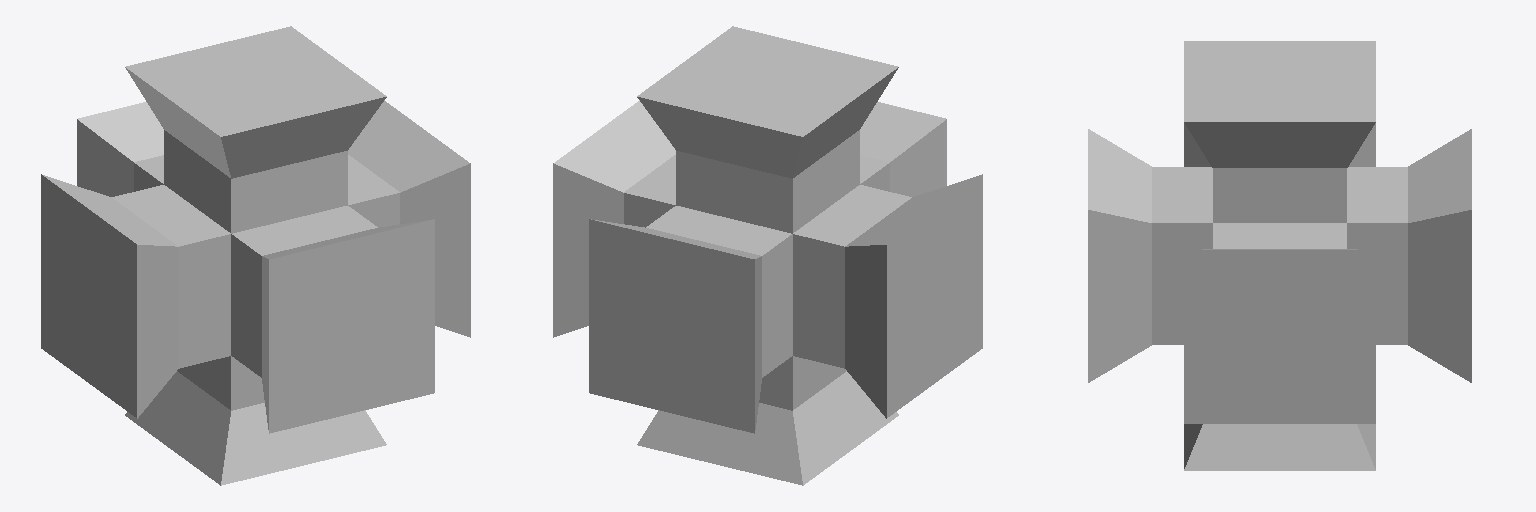
File: PIPE_JOINT.obj
3 renders of one model, left to right at view 1: azimuth 30°, elevation 25°; view 2: azimuth 150°, elevation 25°; view 3: azimuth 270°, elevation 25°, orthographic.
Parts seen in each view (by area): view 1: Cube; view 2: Cube; view 3: Cube.
Boxes of the visible parts, <box> form: Cube: <box>41,26,470,485</box>; Cube: <box>553,26,982,485</box>; Cube: <box>1088,41,1471,470</box>.
Bounding box in the file's own units: 6.01 × 6.01 × 6.01.